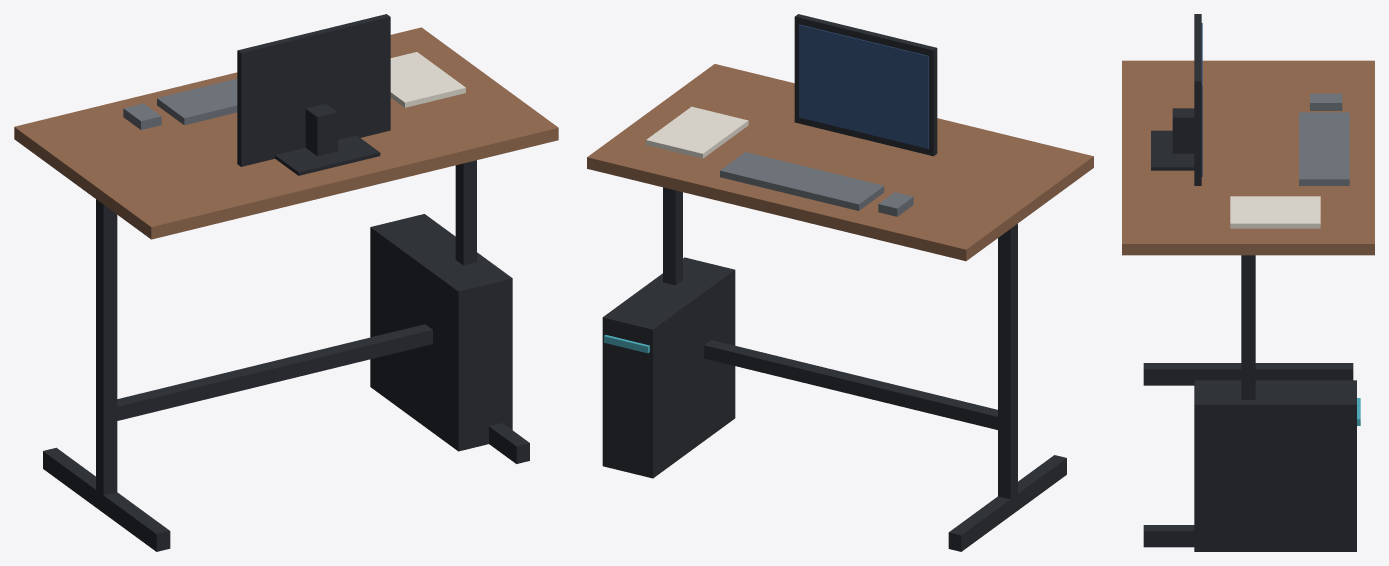
The model's file is desk_pc.glb.
The picture shows the model from 3 angles, left to right: view 1: azimuth 30°, elevation 25°; view 2: azimuth 150°, elevation 25°; view 3: azimuth 270°, elevation 25°; orthographic projection. The views are drawn at different scales.
Visible parts, largest first — view 1: desk_pc_mesh; view 2: desk_pc_mesh; view 3: desk_pc_mesh.
Part boxes in pixels (x1,y1,x2,y2): desk_pc_mesh: (14, 14, 558, 551); desk_pc_mesh: (587, 14, 1093, 551); desk_pc_mesh: (1122, 14, 1374, 551).
Size of the model in its own units: 1.2 by 1.27 by 0.7.
1 material, 1 textured.
